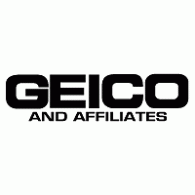Geico: (5, 75, 190, 107)
